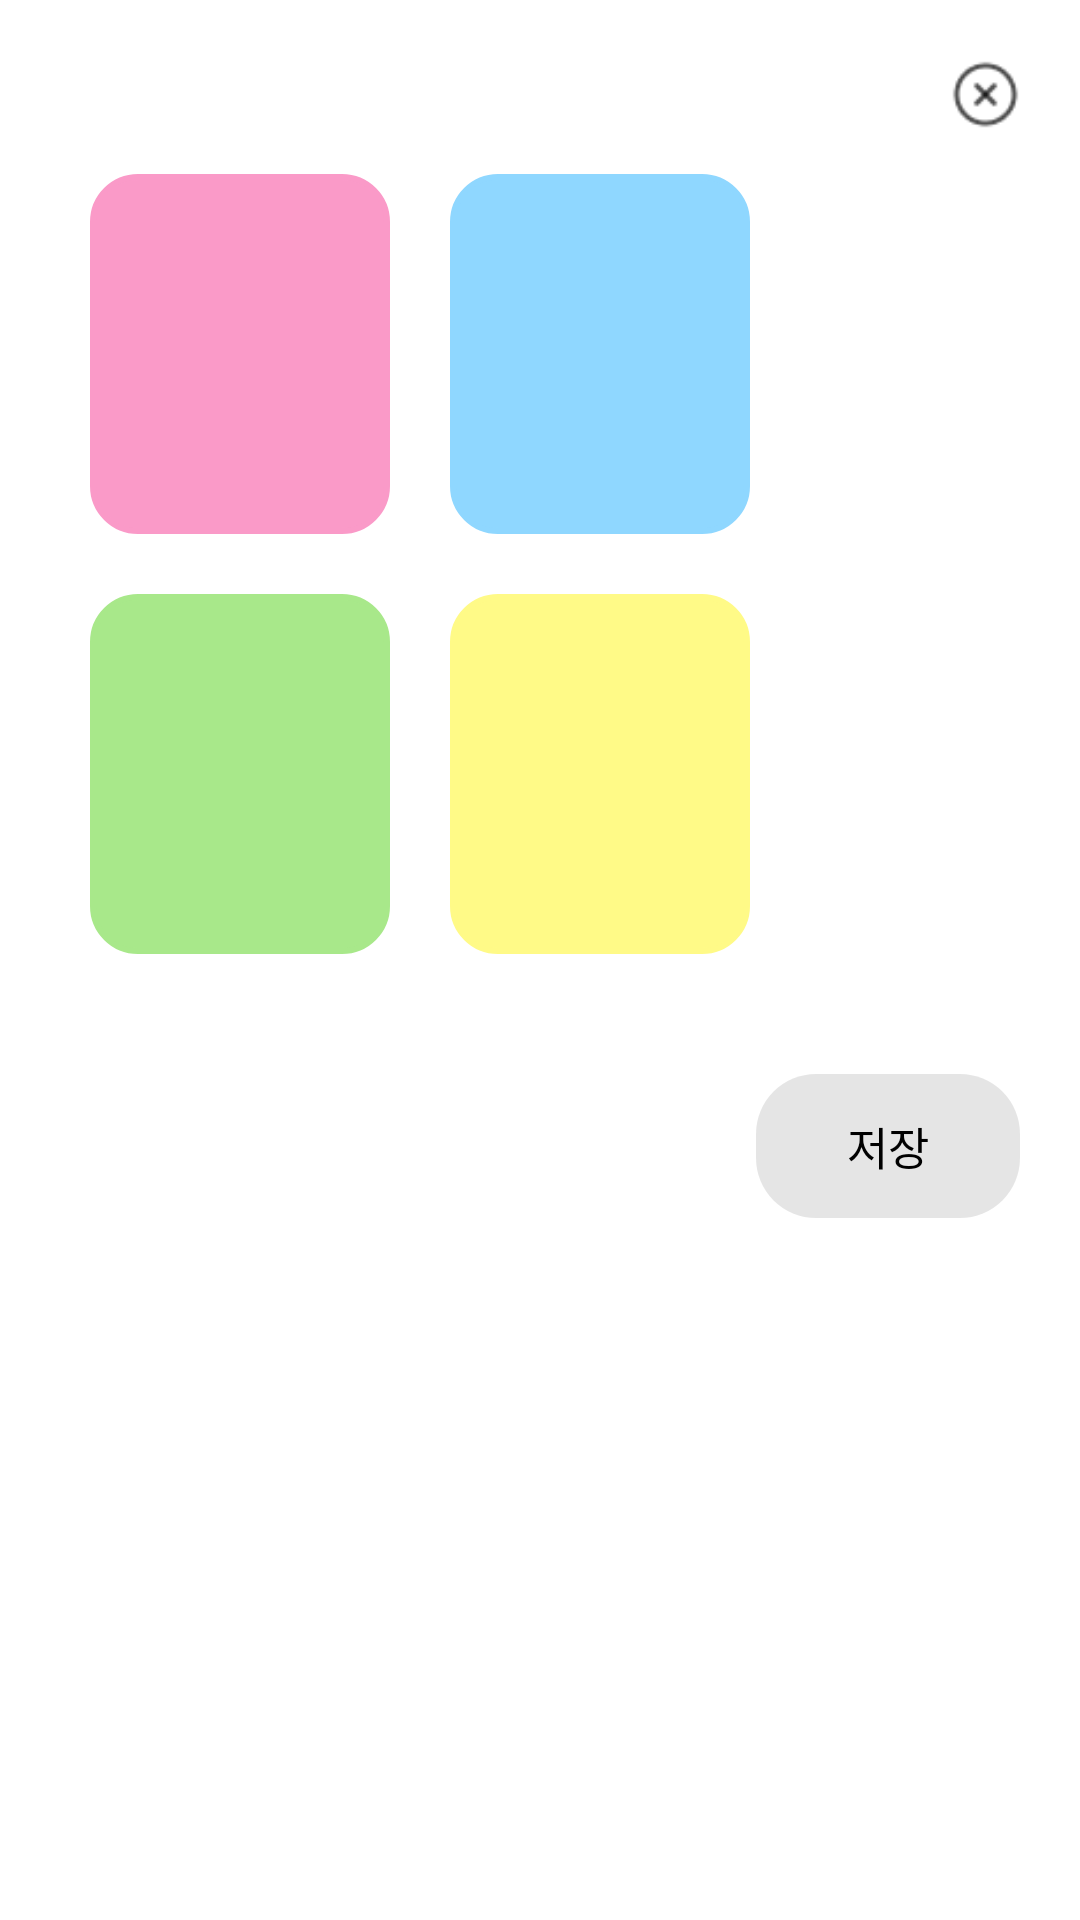

Named icons in this screenshot (1080 x 1920) and their centers, (x,y):
cancel: (985,94)
